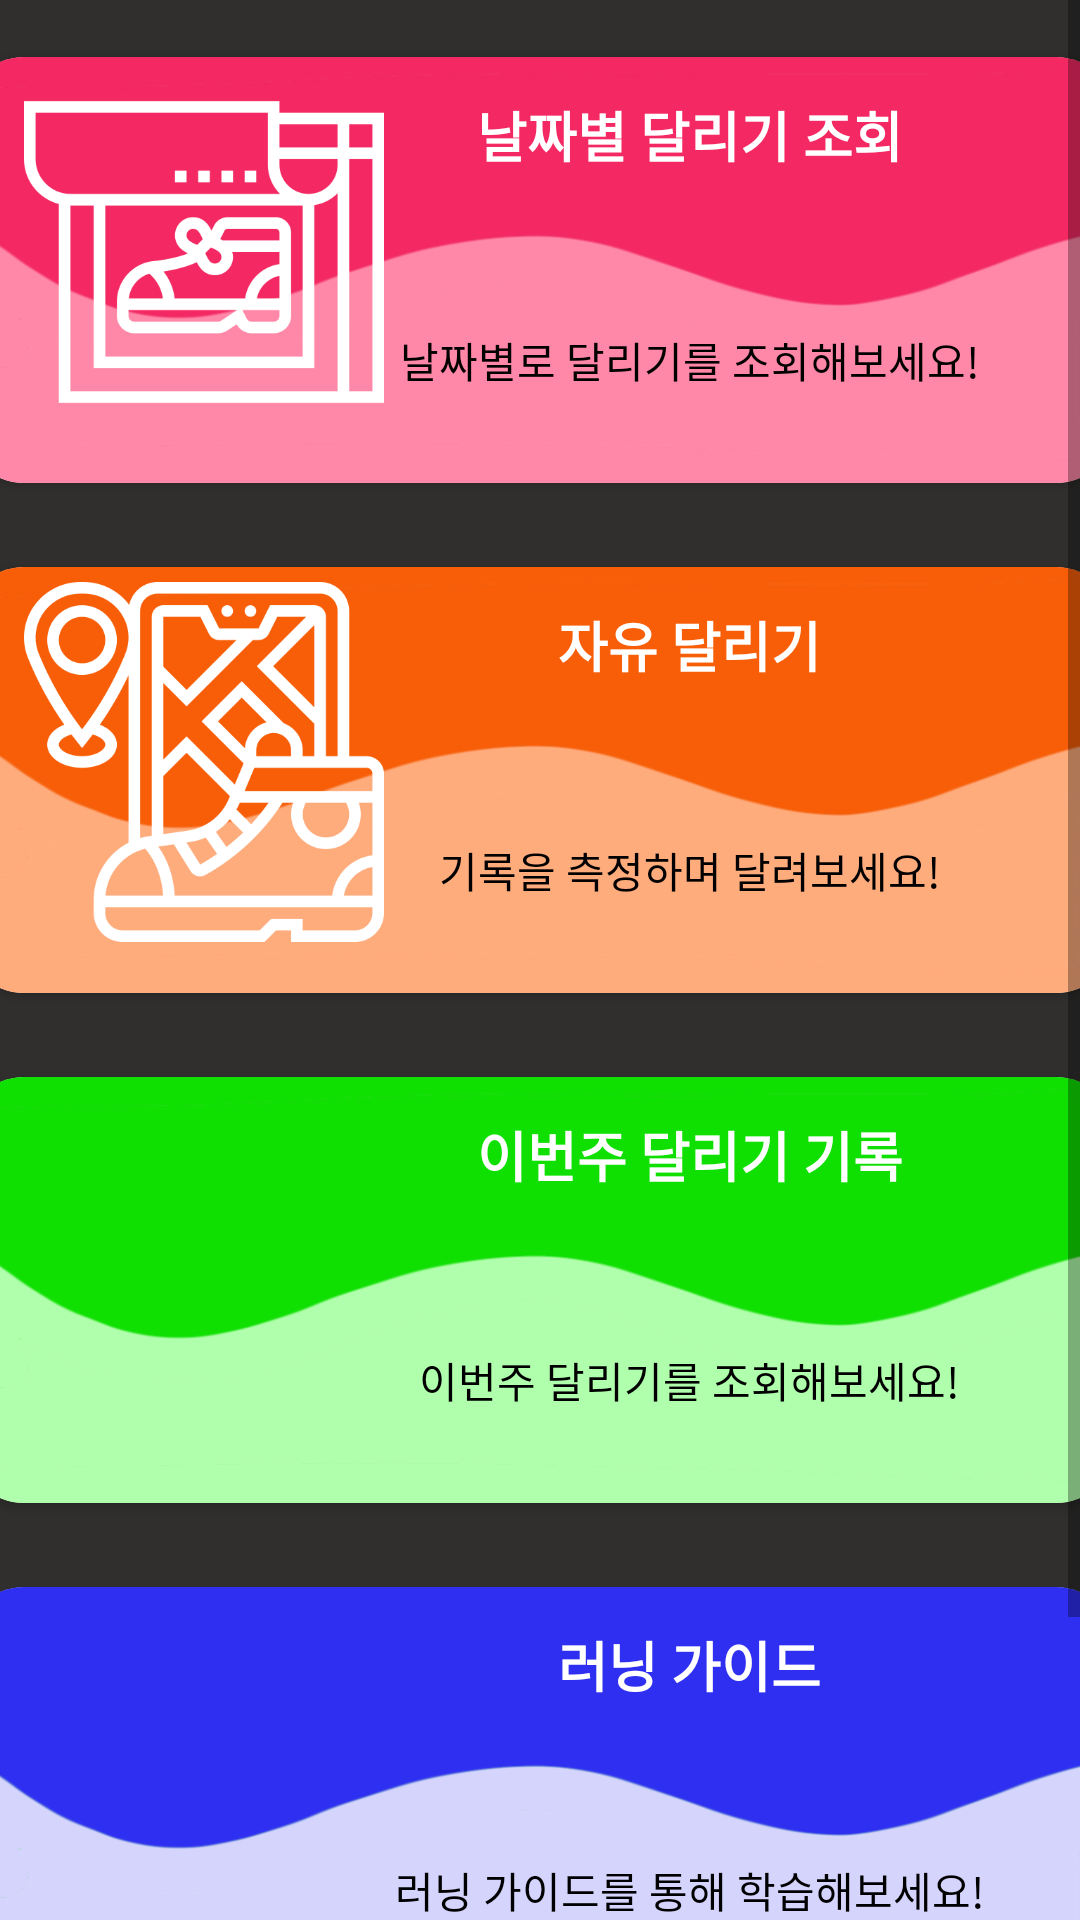

Icons on this 1080×1920 Android screen, each with the point to tap as (x,y):
day running: (204,252)
free running: (204,762)
